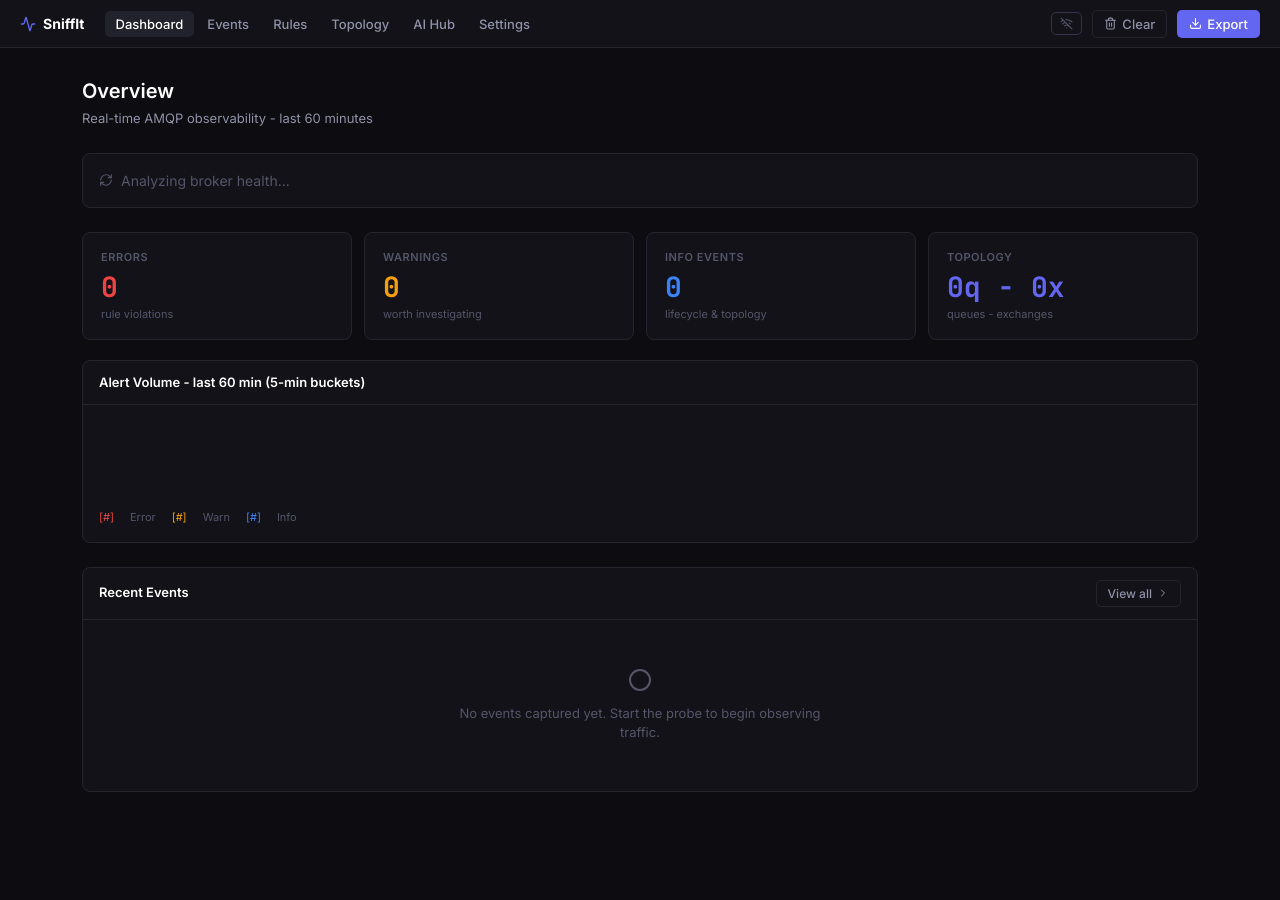
Test case: SniffIt APP › filters events by severity
The width and height of the screenshot is (1280, 900).
Click the button "Events" at [228, 24], box top-left (196, 10), bottom-right (260, 36)
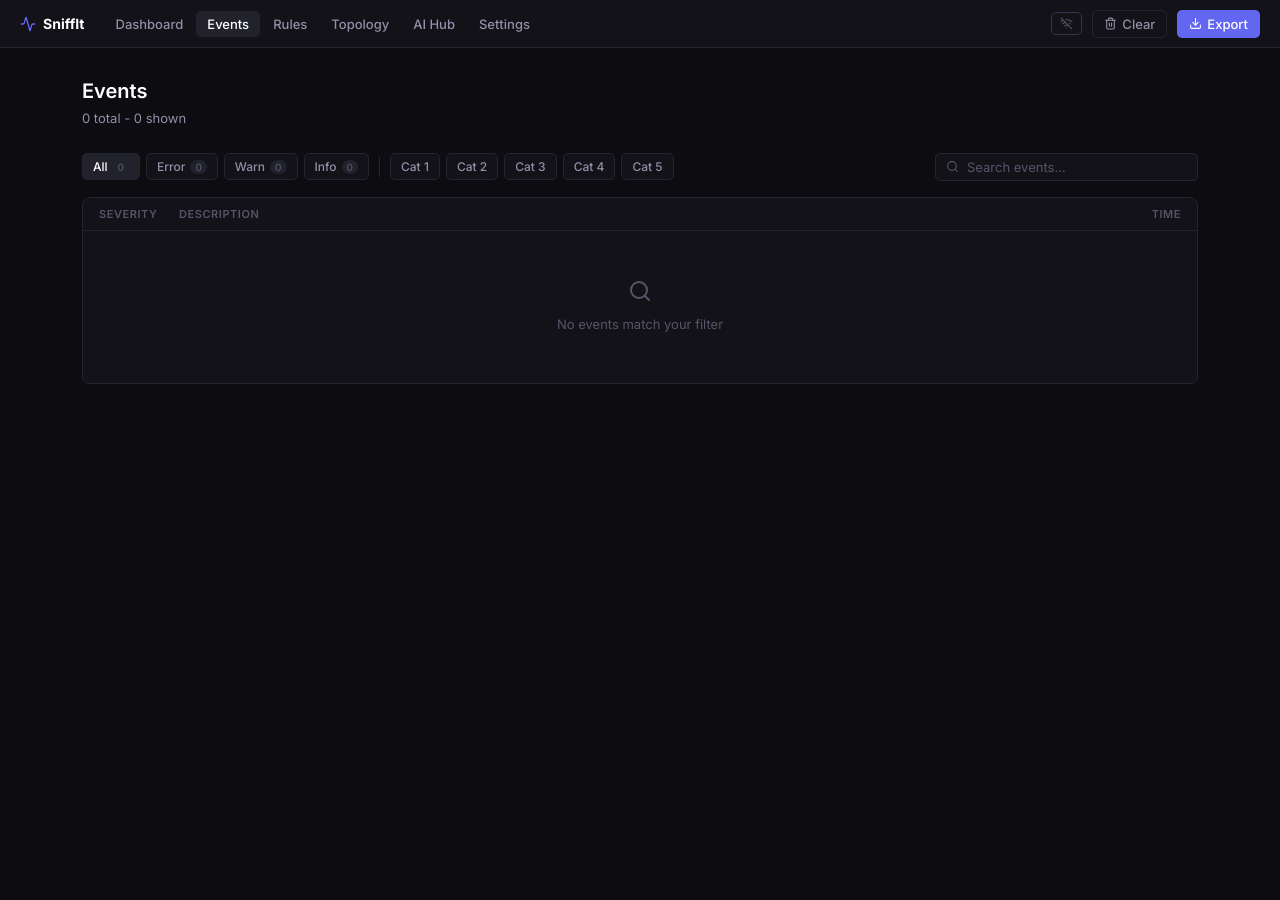
Check: the button "All 0" is shown, box top-left (82, 153), bottom-right (140, 180)
Filter by Error
Click the button "Error 0" at [182, 166], box top-left (146, 153), bottom-right (218, 180)
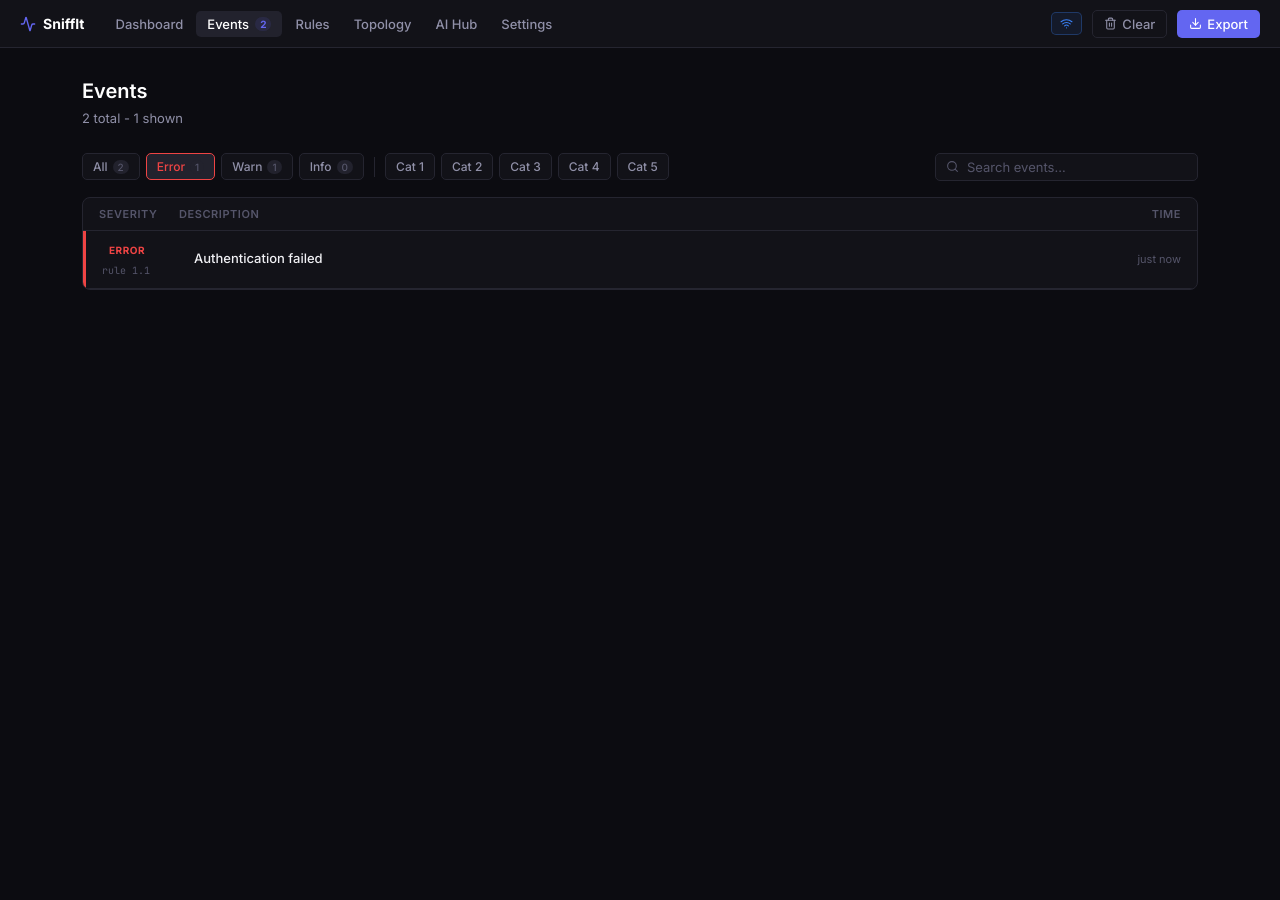
Check: the text "Authentication failed" is shown, box top-left (194, 250), bottom-right (323, 266)
